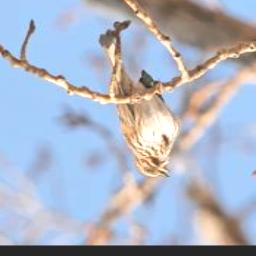Sparrow: (97, 28, 181, 182)
